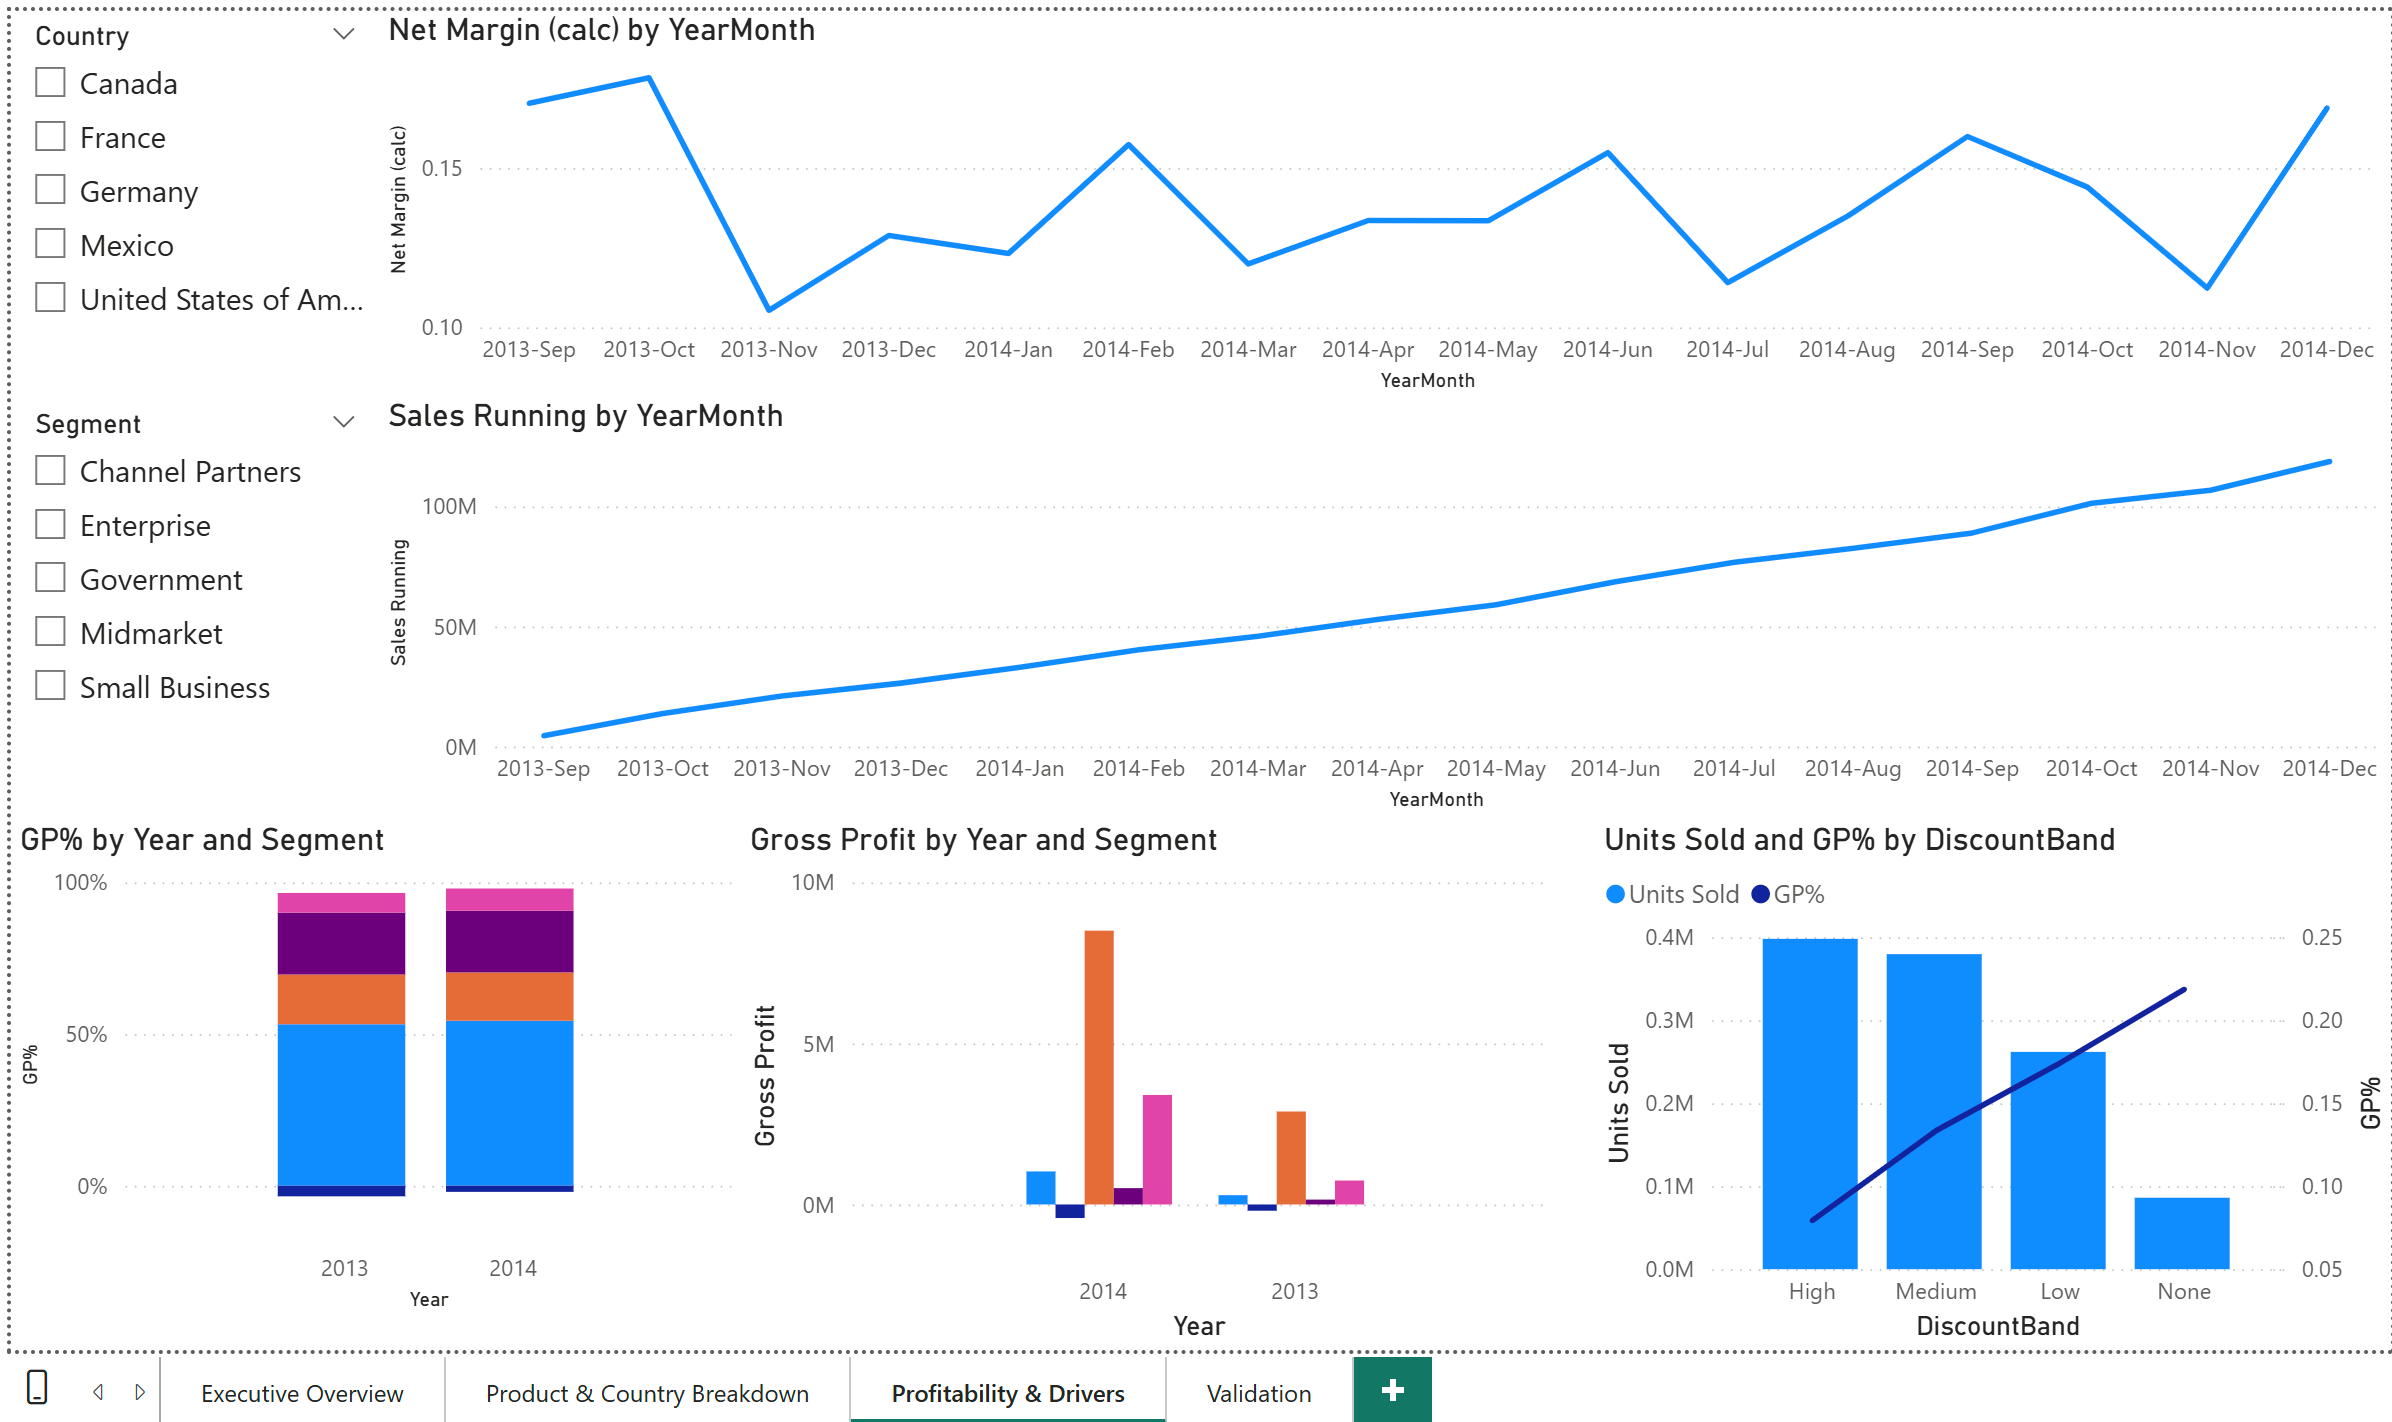

This screenshot's page, from the dashboard's own definition file:
{"tool":"powerbi","page":{"name":"Profitability & Drivers","canvas":[1280,720],"ordinal":2},"visuals":[{"type":"clusteredColumnChart","fields":{"Category":["Calendar.Year"],"Y":["MeasuresTable.Gross Profit"],"Series":["DIM-segment.Segment"]},"box":[392.7,436,437.3,284.3],"z":2},{"type":"hundredPercentStackedColumnChart","fields":{"Y":["MeasuresTable.GP%"],"Category":["Calendar.Year"],"Series":["DIM-segment.Segment"]},"box":[0,436,392.7,267.7],"z":3},{"type":"lineChart","fields":{"Y":["MeasuresTable.Net Margin (calc)"],"Category":["Calendar.YearMonth"]},"box":[197.6,0,1081.1,209.1],"z":4},{"type":"lineStackedColumnComboChart","fields":{"Category":["DIM-discountband.DiscountBand"],"Y":["MeasuresTable.Units Sold"],"Y2":["MeasuresTable.GP%"]},"box":[851.6,435.7,429.6,284.3],"z":7},{"type":"lineChart","fields":{"Y":["MeasuresTable.Sales Running"],"Category":["Calendar.YearMonth"]},"box":[197.6,207.8,1082.4,226.9],"z":8},{"type":"slicer","fields":{"Values":["DIM-country.Country"]},"box":[0,0,198,209],"z":9},{"type":"slicer","fields":{"Values":["DIM-segment.Segment"]},"box":[0,209,198,226],"z":10}]}

Visuals, with their boxes on the page's 1280x720 design canvas (x1, y1, x2, y2). These are canvas units, not pixel positions in the 2392x1422 screenshot, which may show the page scaled, cropped or inside an application window:
clusteredColumnChart - Calendar.Year x MeasuresTable.Gross Profit: {"left": 393, "top": 436, "right": 830, "bottom": 720}
hundredPercentStackedColumnChart - MeasuresTable.GP% x Calendar.Year: {"left": 0, "top": 436, "right": 393, "bottom": 704}
lineChart - MeasuresTable.Net Margin (calc) x Calendar.YearMonth: {"left": 198, "top": 0, "right": 1279, "bottom": 209}
lineStackedColumnComboChart - DIM-discountband.DiscountBand x MeasuresTable.Units Sold: {"left": 852, "top": 436, "right": 1281, "bottom": 720}
lineChart - MeasuresTable.Sales Running x Calendar.YearMonth: {"left": 198, "top": 208, "right": 1280, "bottom": 435}
slicer - DIM-country.Country: {"left": 0, "top": 0, "right": 198, "bottom": 209}
slicer - DIM-segment.Segment: {"left": 0, "top": 209, "right": 198, "bottom": 435}
